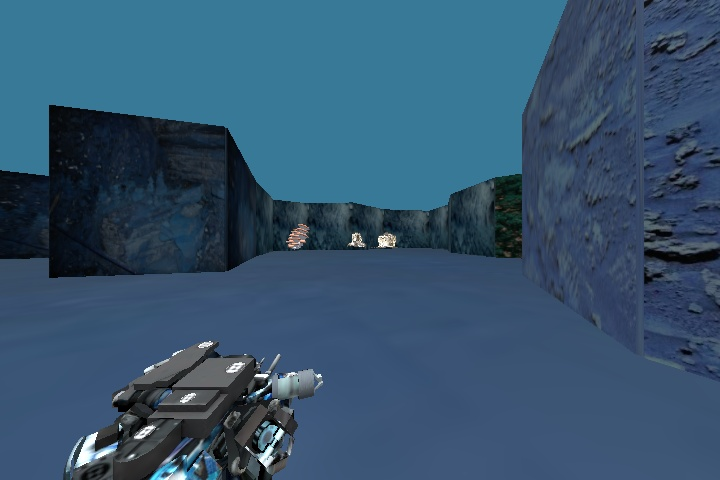formation: (345, 223, 401, 249)
mushrooms: (283, 220, 308, 262)
